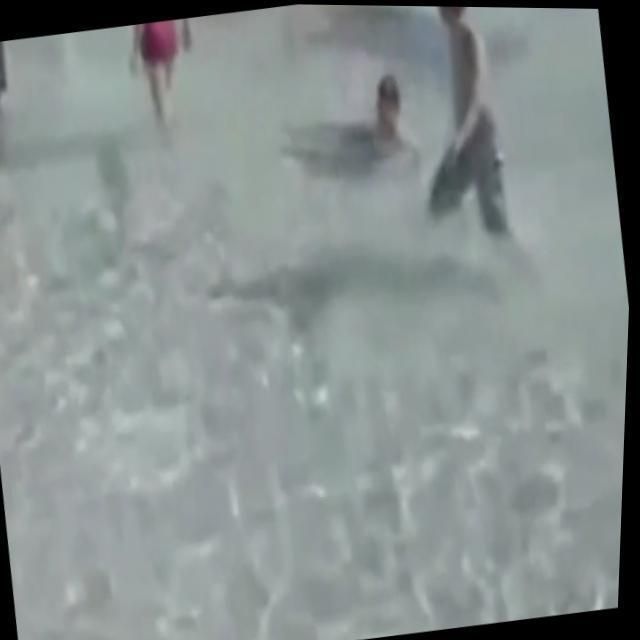swimming: (421, 7, 558, 299), (313, 67, 412, 193)
